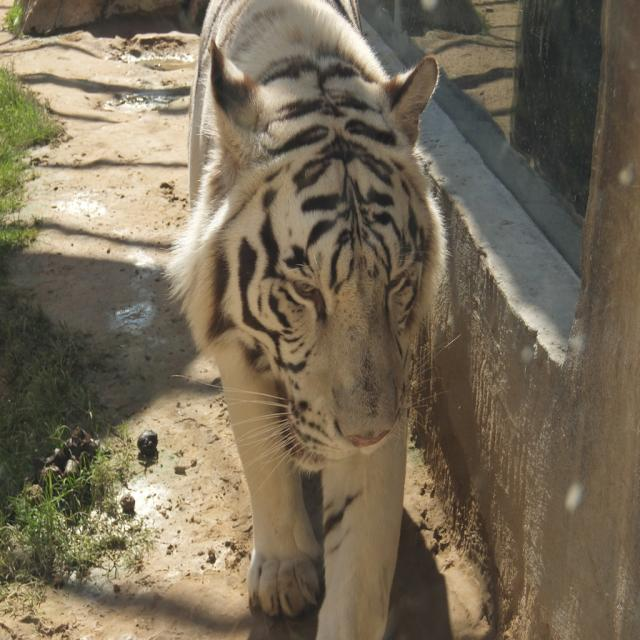Tiger: (162, 0, 461, 639)
